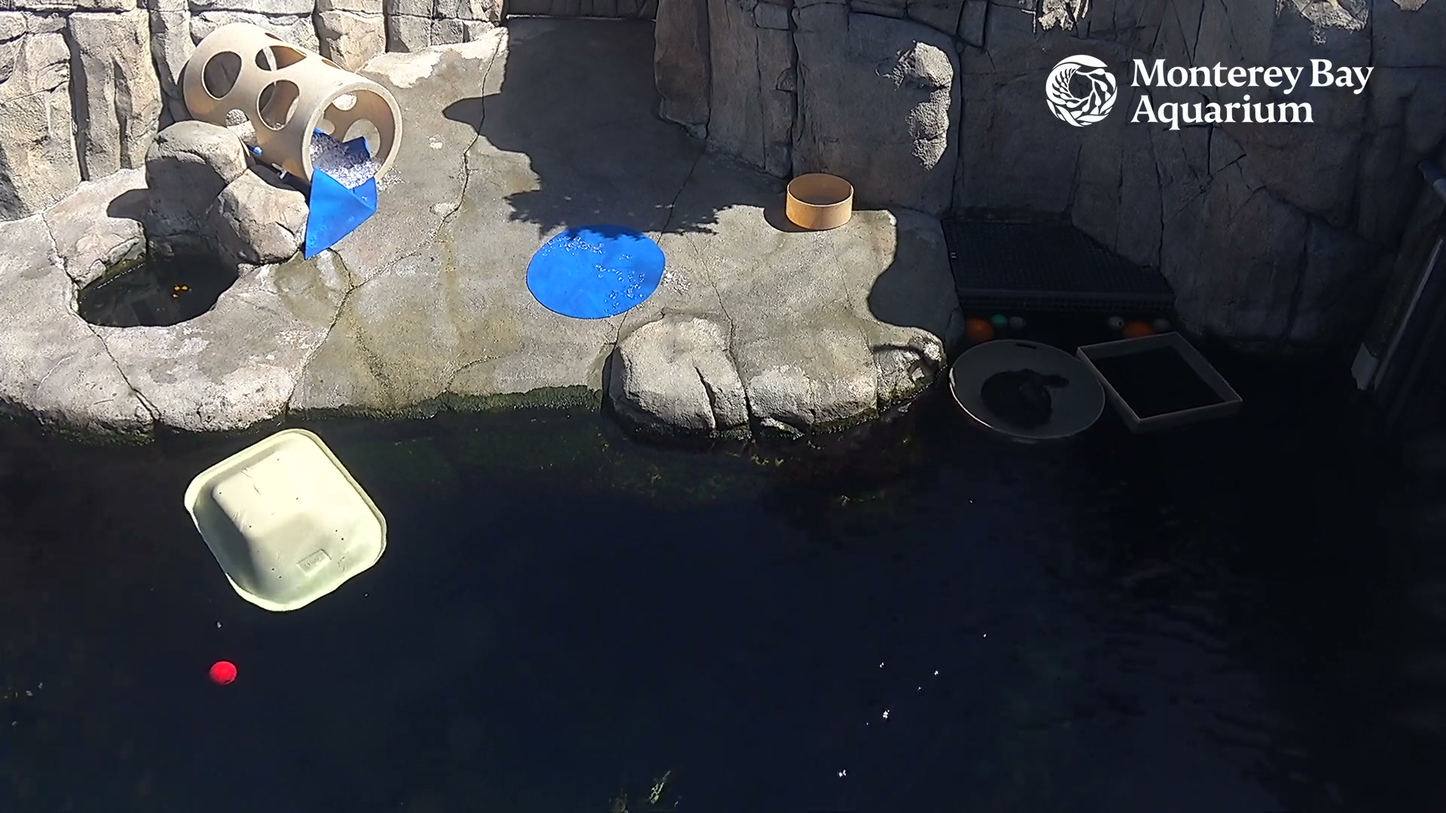Southern Sea Otter: (990, 356, 1062, 429)
